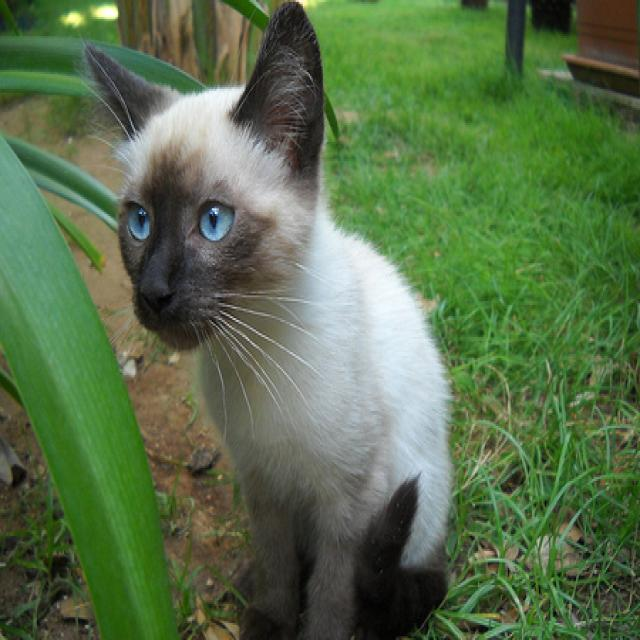Siamese: (80, 0, 455, 640)
